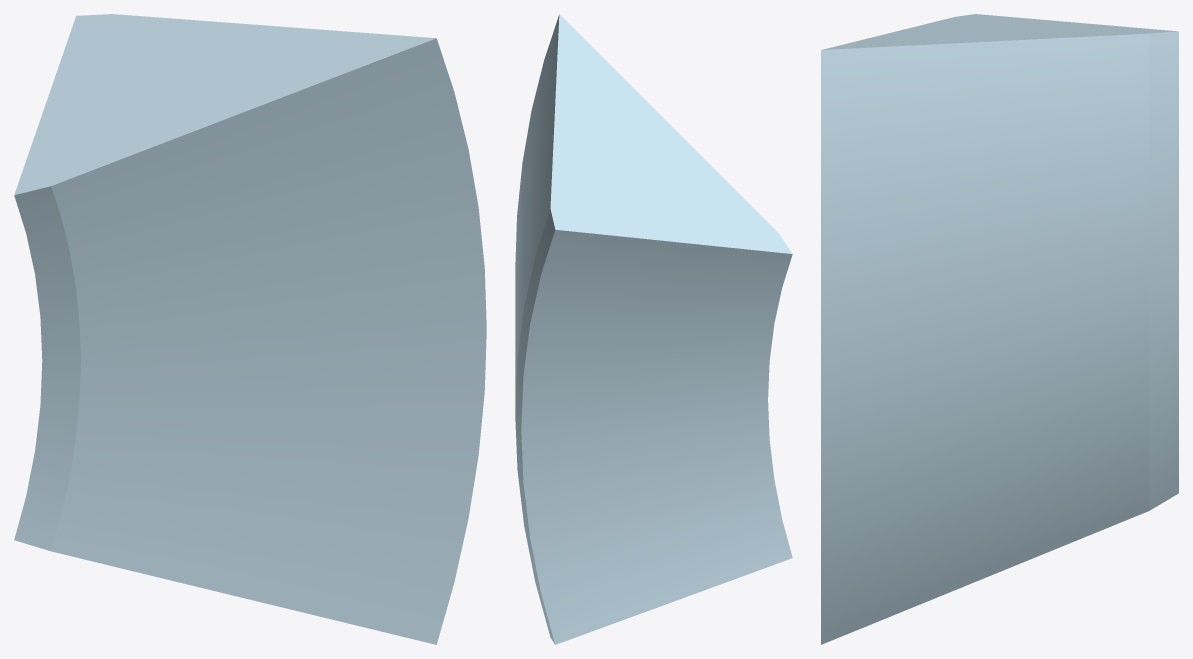
Rendered from Sub_4_Cell_2_2.gltf.
3 renders of one model, left to right at view 1: azimuth 30°, elevation 25°; view 2: azimuth 150°, elevation 25°; view 3: azimuth 270°, elevation 25°, orthographic. The views are drawn at different scales.
Parts seen in each view (by area): view 1: Sub_4_Cell_2_2; view 2: Sub_4_Cell_2_2; view 3: Sub_4_Cell_2_2.
Part boxes in pixels (x1,y1,x2,y2): Sub_4_Cell_2_2: (14,14,486,644); Sub_4_Cell_2_2: (515,14,792,644); Sub_4_Cell_2_2: (821,14,1178,644).
Bounding box in the file's own units: 0.0608 × 0.0895 × 0.0488.
